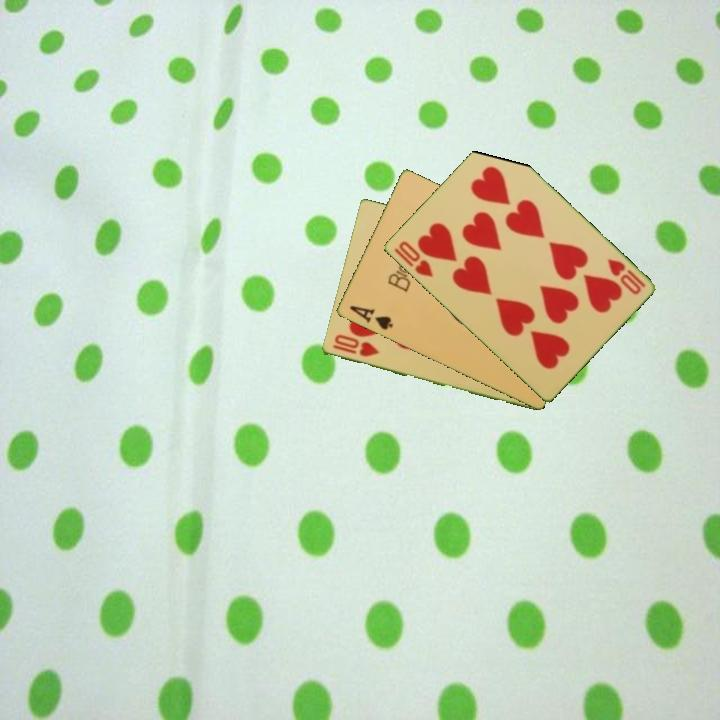10h: (603, 255, 648, 298), (395, 237, 436, 281), (328, 331, 381, 360)
As: (346, 302, 396, 333)
